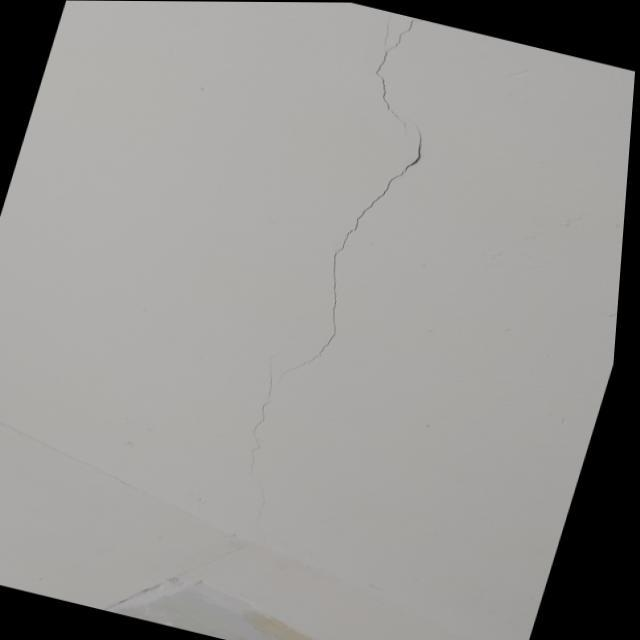Crack: (246, 23, 426, 470)
